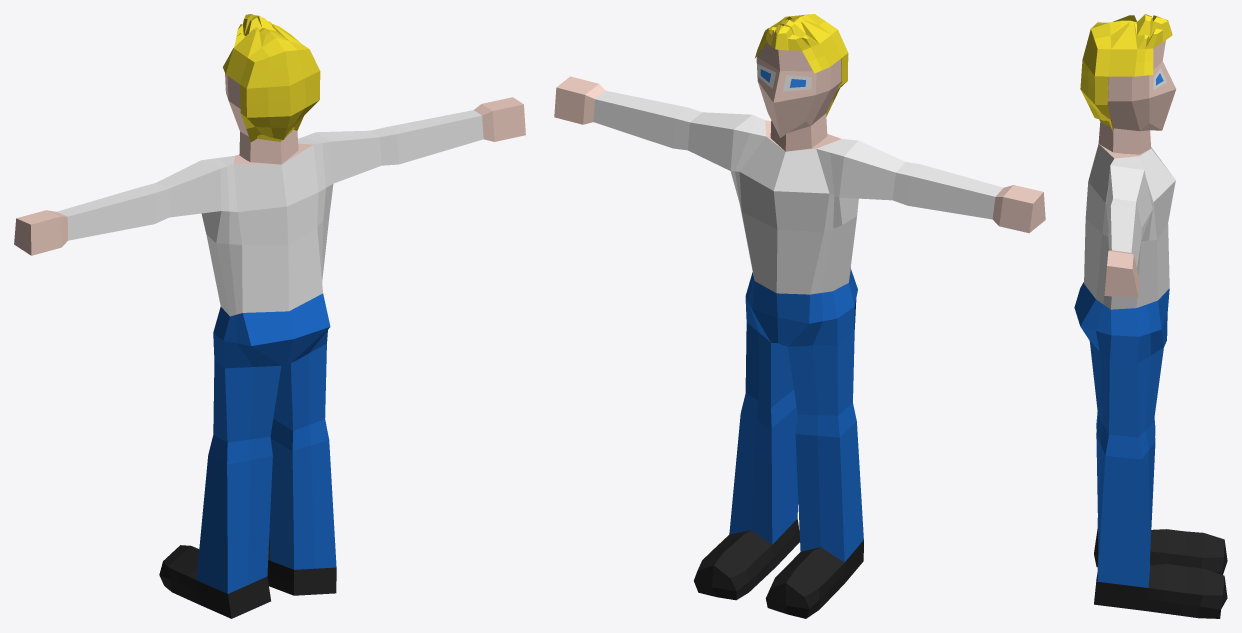
File: player.fbx
The picture shows the model from 3 angles, left to right: view 1: azimuth 30°, elevation 25°; view 2: azimuth 150°, elevation 25°; view 3: azimuth 270°, elevation 25°; orthographic projection. The views are drawn at different scales.
Parts seen in each view (by area): view 1: Cube; view 2: Cube; view 3: Cube.
Boxes of the visible parts, x1,y1,x2,y2 form: Cube: (14, 14, 525, 618); Cube: (554, 14, 1045, 618); Cube: (1074, 14, 1227, 618).
Bounding box in the file's own units: 1375 × 1543 × 371.
1 material, 1 textured.
